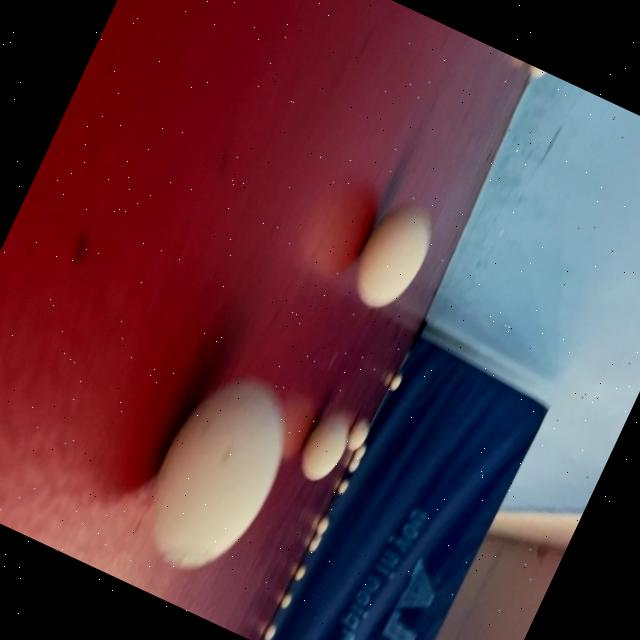ping-pong-ball: (117, 352, 313, 594), (338, 185, 449, 322), (287, 395, 364, 496)
